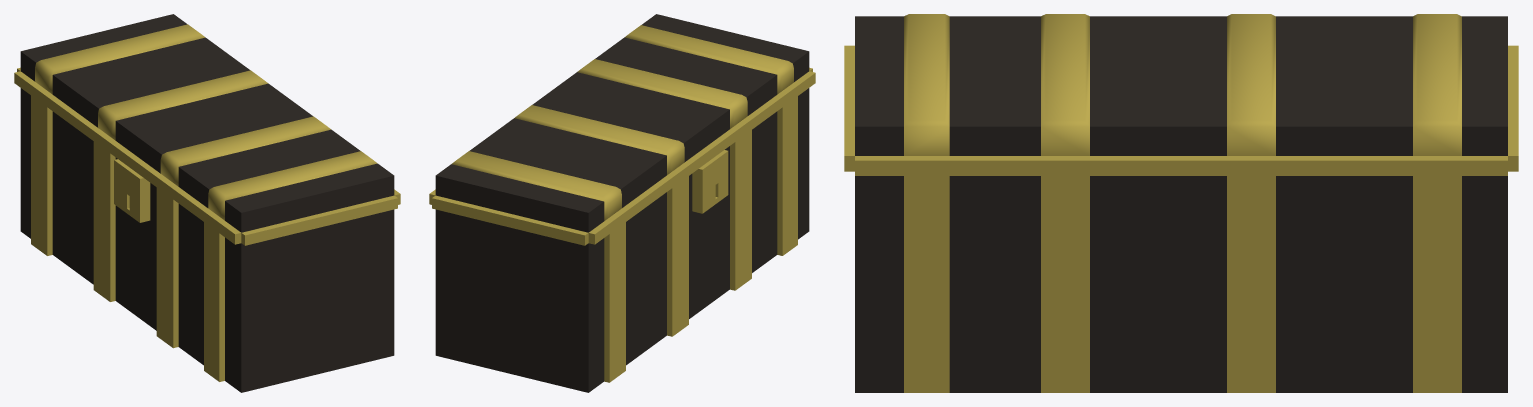
Rendered from baul.fbx.
3 renders of one model, left to right at view 1: azimuth 30°, elevation 25°; view 2: azimuth 150°, elevation 25°; view 3: azimuth 270°, elevation 25°, orthographic. The views are drawn at different scales.
Parts seen in each view (by area): view 1: Madera, Metal; view 2: Madera, Metal; view 3: Madera, Metal.
Part boxes in pixels (x1,y1,x2,y2): Madera: (20, 14, 394, 392); Metal: (14, 24, 400, 381); Madera: (435, 14, 809, 392); Metal: (429, 25, 815, 382); Madera: (855, 16, 1507, 392); Metal: (844, 14, 1518, 392).
Bounding box in the file's own units: 85.8 × 88.54 × 200.
2 materials, 2 textured.
